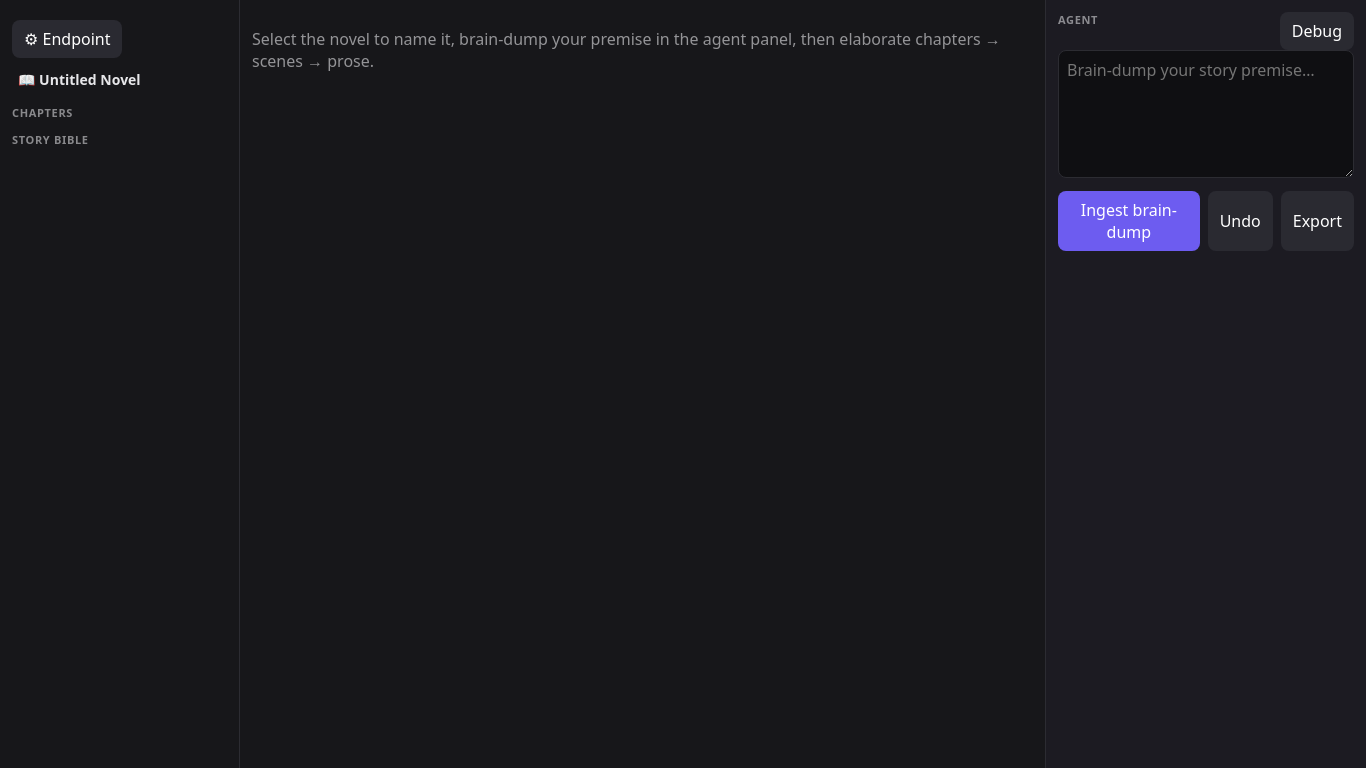
it: App refinements › shows Test and List models in Settings
Click the button "⚙ Endpoint" at [67, 39], box [12,20,122,58]
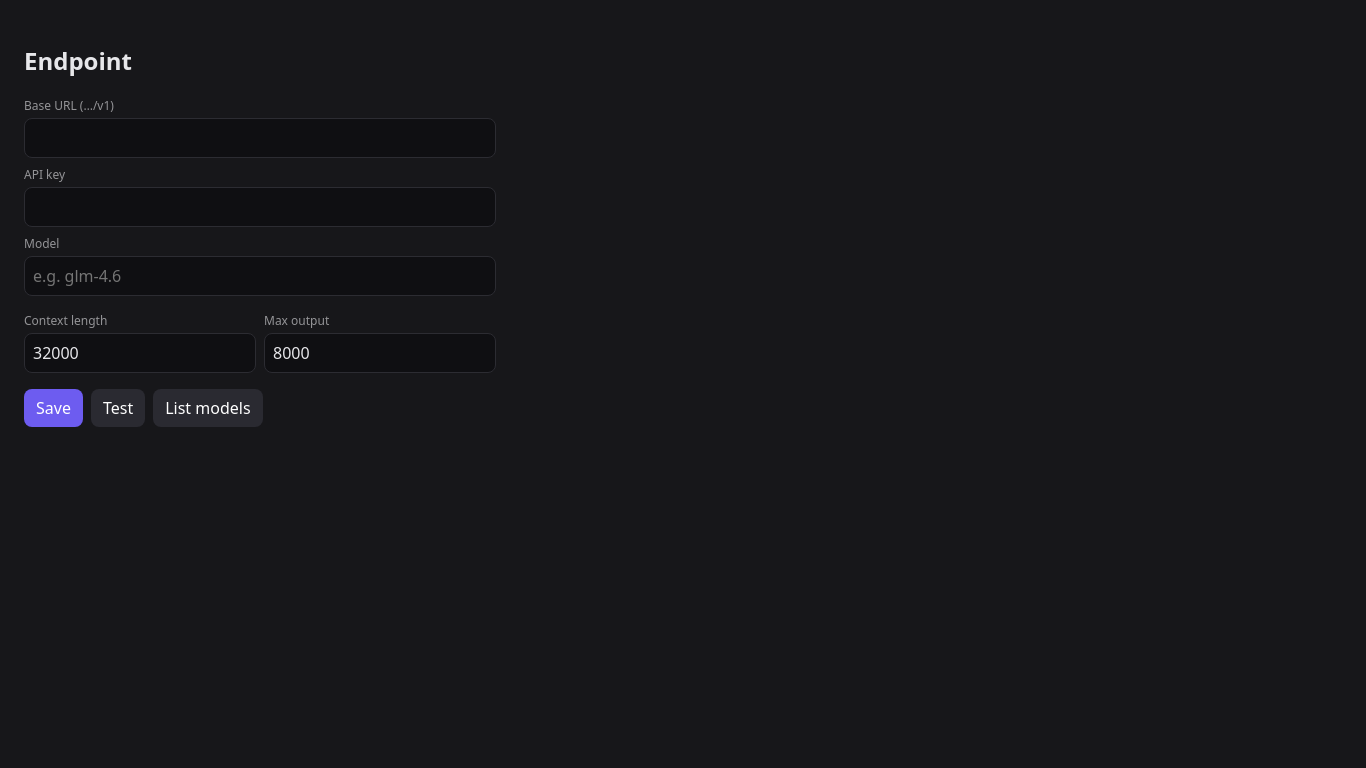
Now the button "Test" is shown, box [91,389,145,427]
Now the button "List models" is shown, box [153,389,263,427]
